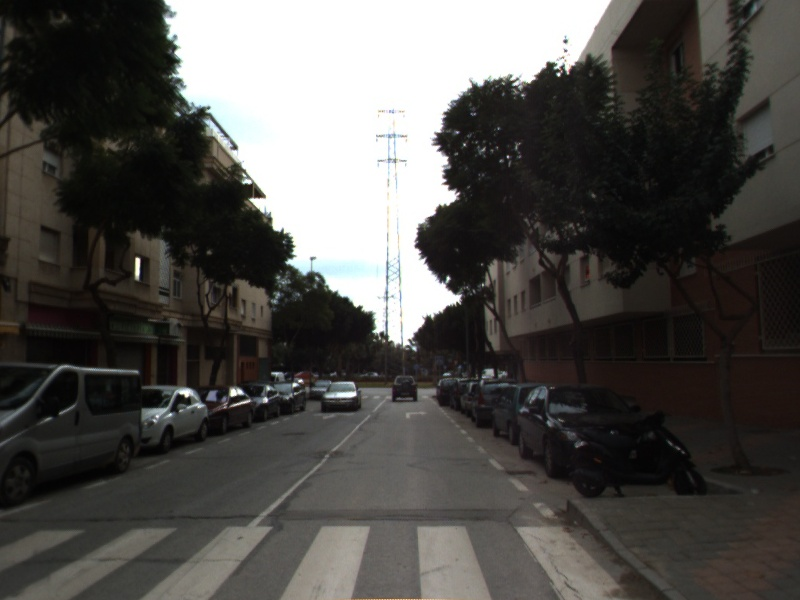RIGHT: (403, 408, 430, 420)
